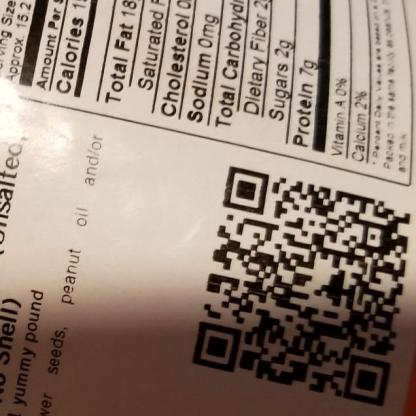qr: (183, 162, 416, 416)
